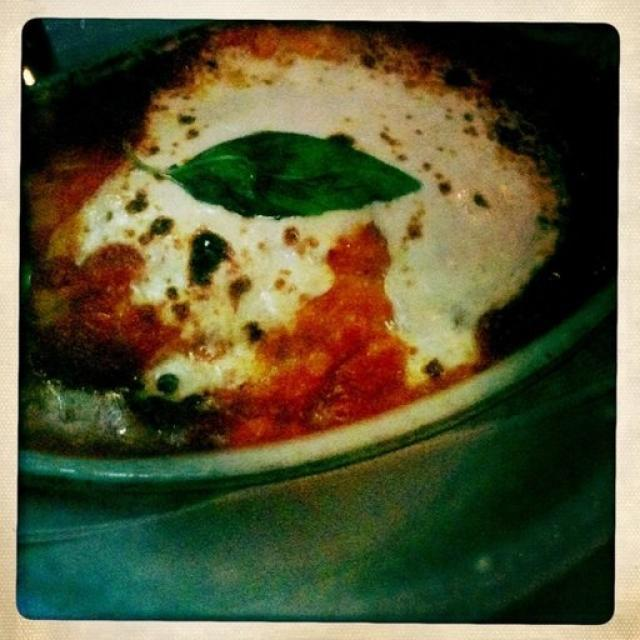Lasagna: (50, 21, 581, 445)
